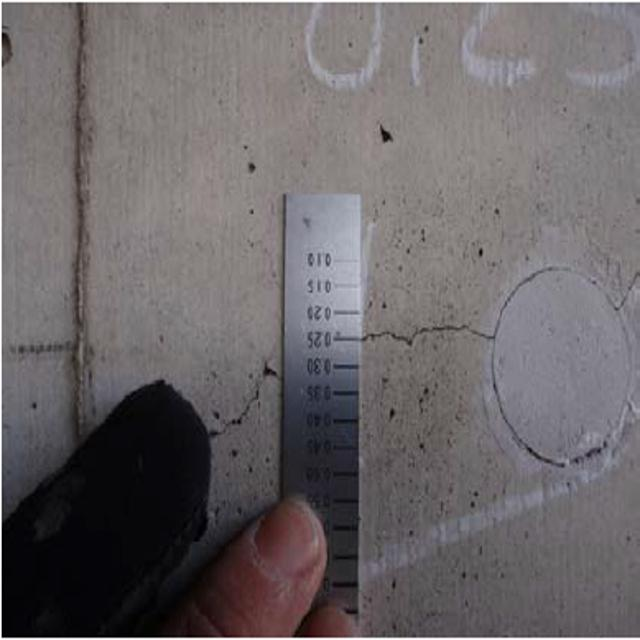crack: (362, 302, 502, 364), (190, 344, 277, 442)
